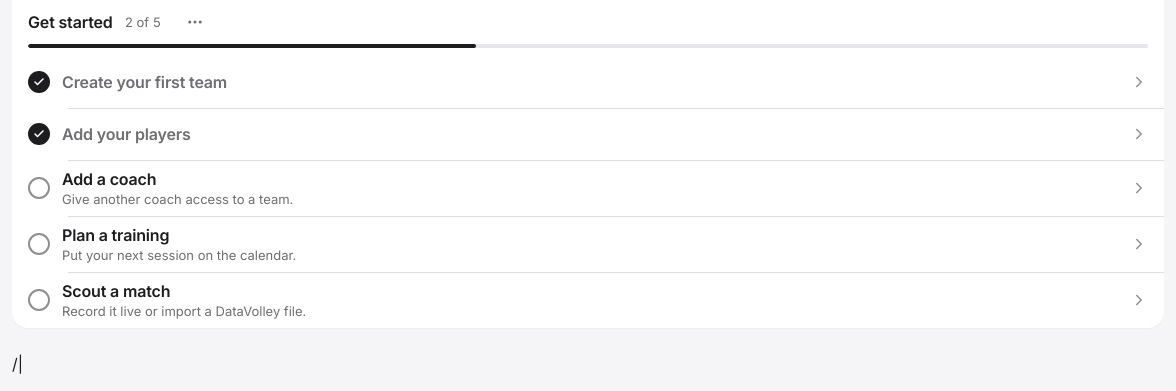
GetStartedCard › Plan a training goes straight to the one team calendar with the pending action
The image size is (1176, 391).
Click the button "Plan a training Put your next session on the calendar.".
click(116, 235)  # box [12,216,1164,272]
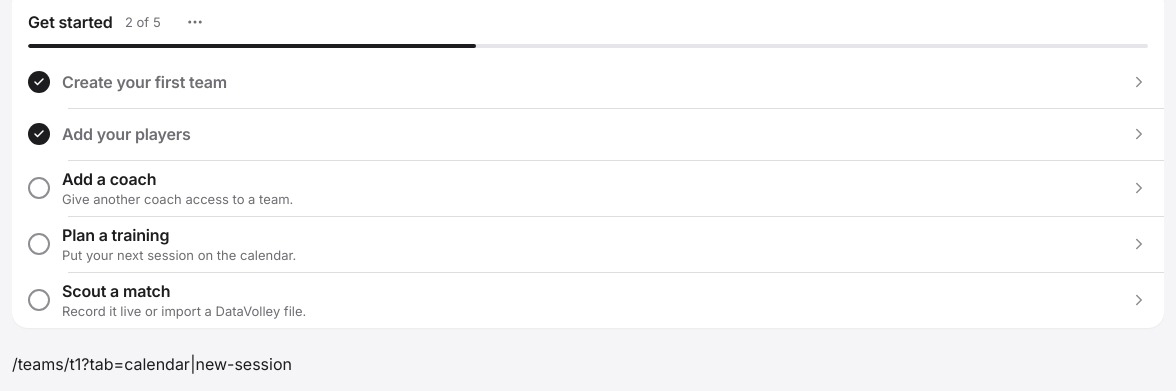
Expected: the text with test id "where" reads "/teams/t1?tab=calendar|new-session", [12,354,292,374]
